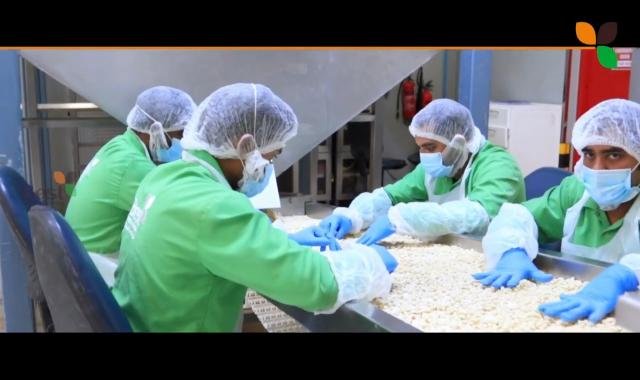hairnet: (189, 82, 302, 160), (570, 95, 640, 169), (406, 100, 481, 166), (128, 84, 195, 144)
